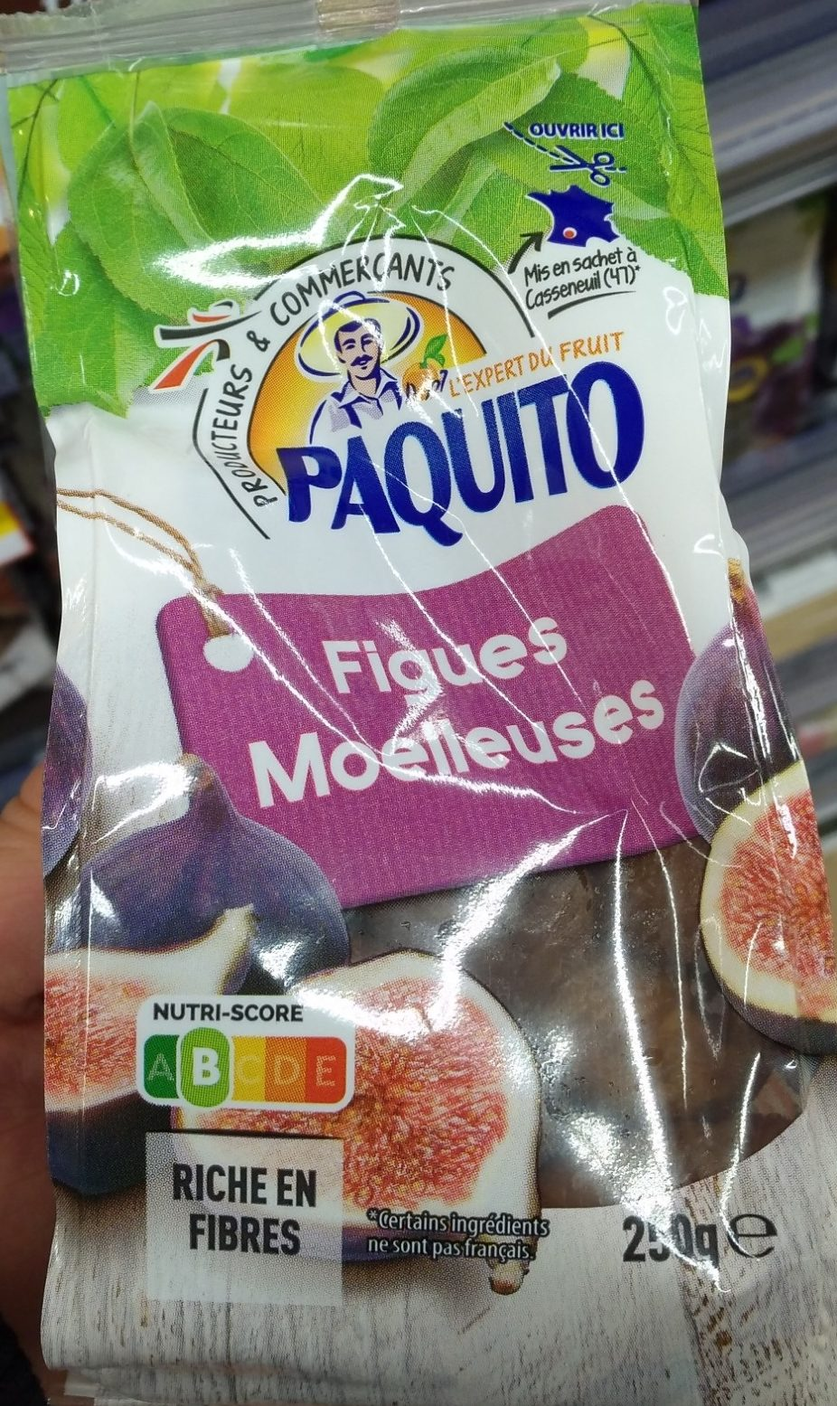Figues Moelleuses: (42, 70, 795, 1336)
